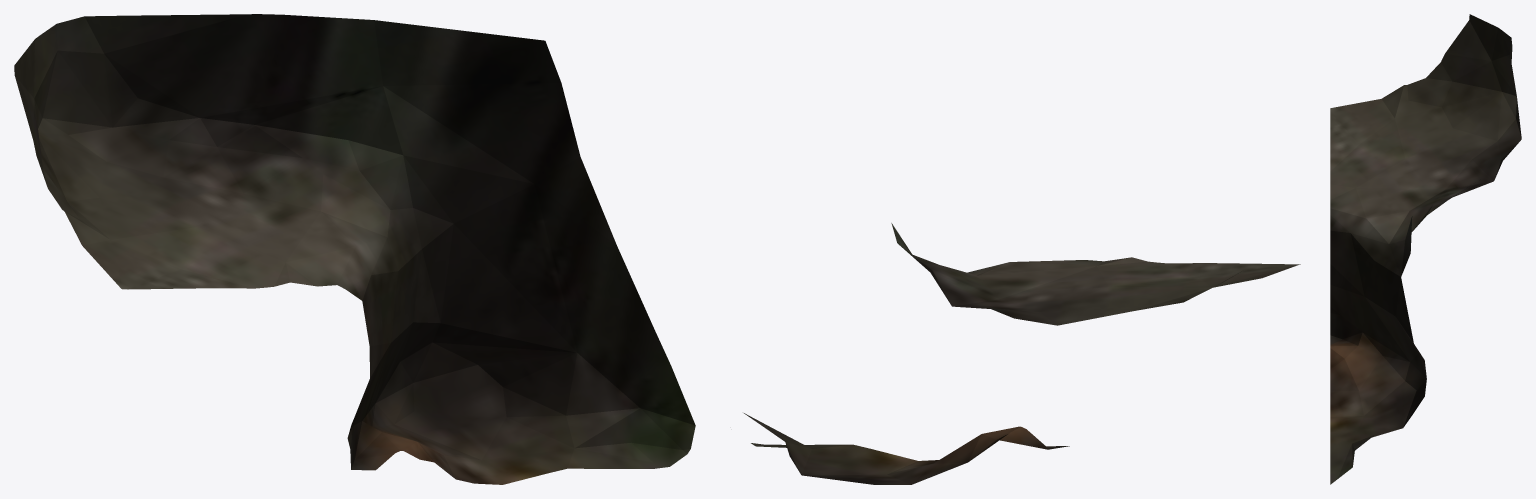
3 renders of one model, left to right at view 1: azimuth 30°, elevation 25°; view 2: azimuth 150°, elevation 25°; view 3: azimuth 270°, elevation 25°, orthographic. The views are drawn at different scales.
Bounding box in the file's own units: 0.4541 × 0.3451 × 0.2019.
Materials: 1 (1 with a texture image).
